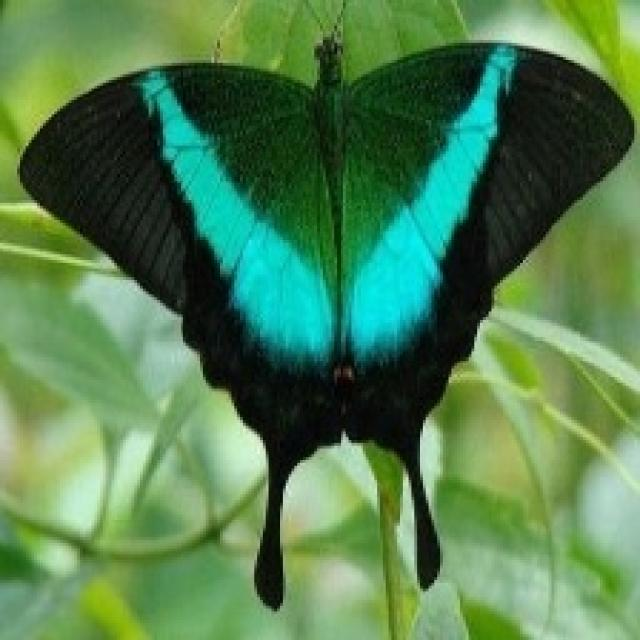butterfly: (14, 0, 634, 611)
